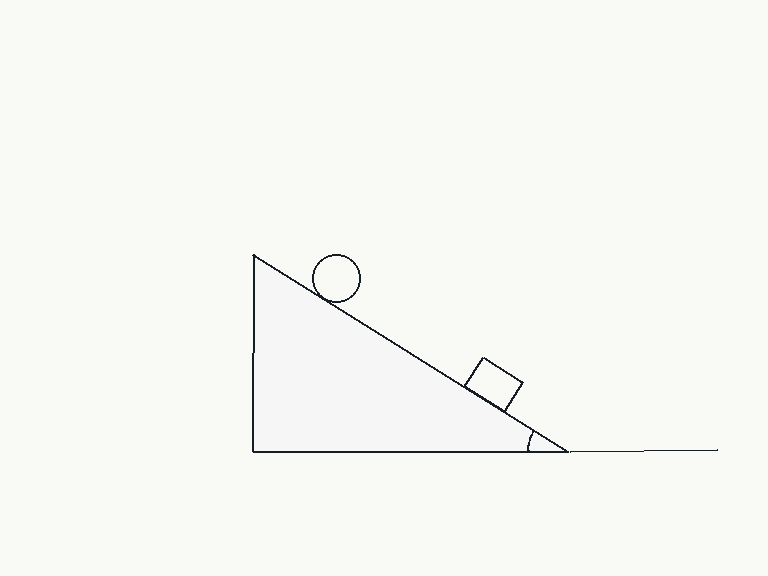ball: (310, 252, 362, 304)
block: (462, 355, 524, 413)
ramp: (251, 252, 570, 453)
